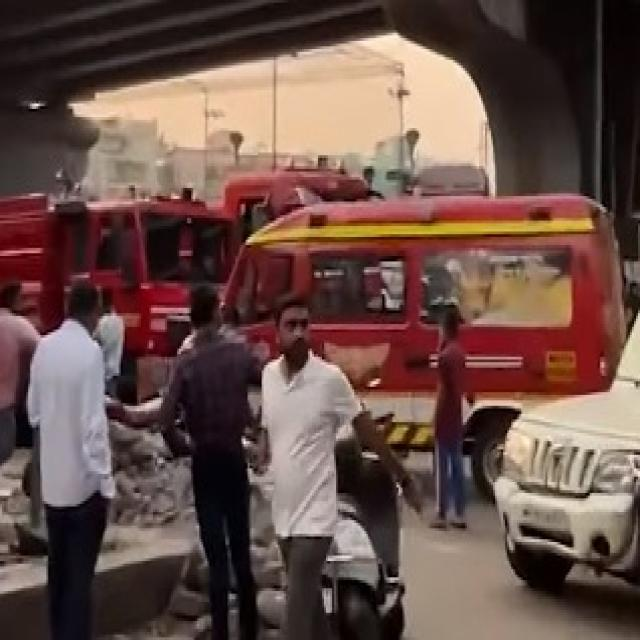car: (495, 320, 640, 589)
emergency: (224, 196, 625, 486), (0, 199, 239, 356)
